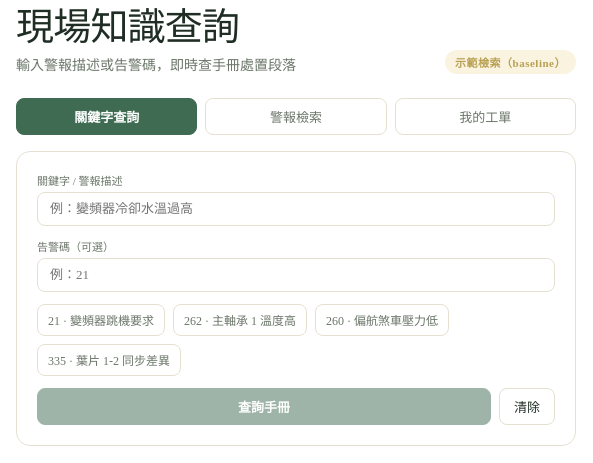
FieldPage 現場知識查詢頁 › 查詢按鈕：無輸入時 disabled、輸入關鍵字後 enabled
The width and height of the screenshot is (593, 463).
Expected: the button "查詢手冊" is disabled, x1=37 y1=388 x2=491 y2=425
Type "變頻器" into the field labelled "關鍵字" at (296, 209), box x1=37 y1=192 x2=555 y2=226
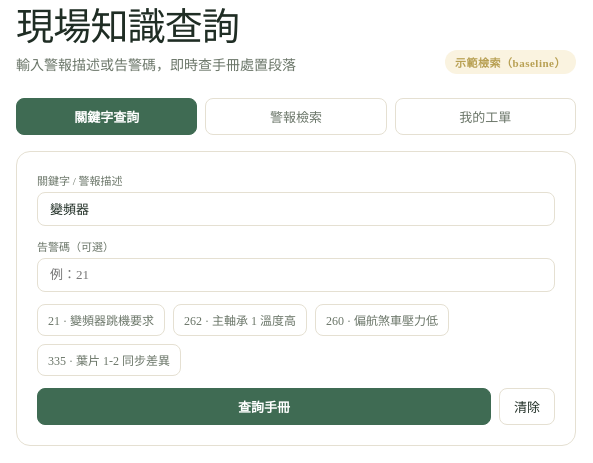
Now the button "查詢手冊" is enabled, box x1=37 y1=388 x2=491 y2=425
